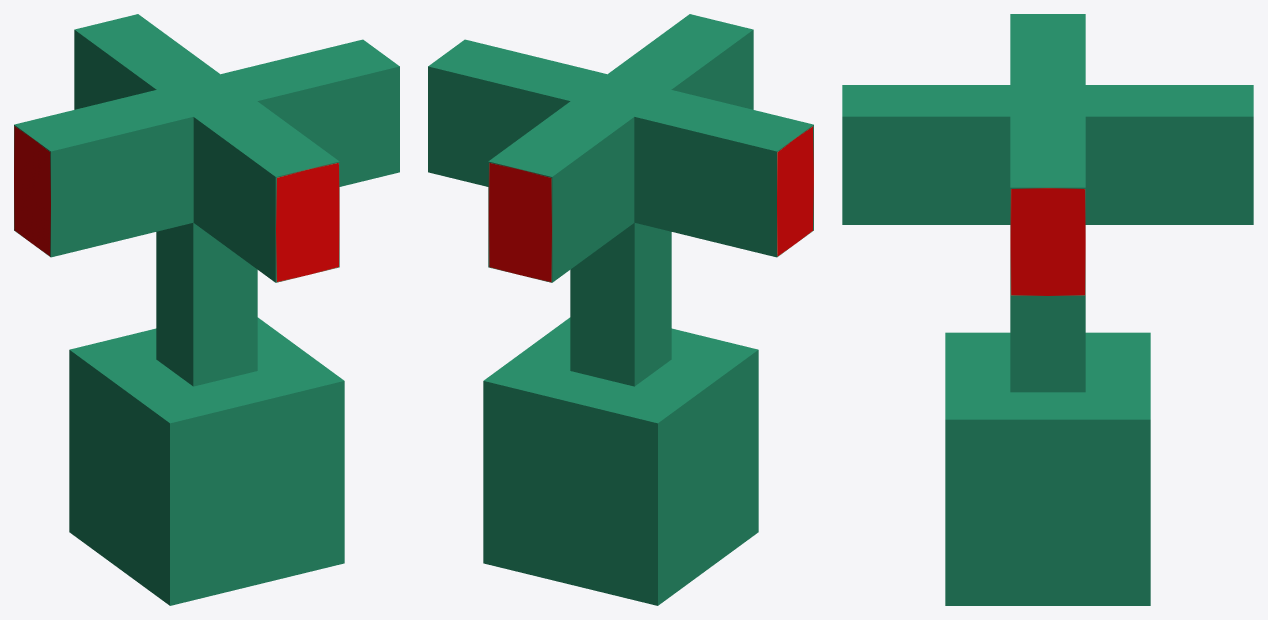
The model's file is Trap.obj.
The picture shows the model from 3 angles, left to right: view 1: azimuth 30°, elevation 25°; view 2: azimuth 150°, elevation 25°; view 3: azimuth 270°, elevation 25°; orthographic projection. The views are drawn at different scales.
Parts seen in each view (by area): view 1: Cube; view 2: Cube; view 3: Cube.
Part boxes in pixels (x1,y1,x2,y2): Cube: (14,14,399,605); Cube: (428,14,813,605); Cube: (842,14,1253,605).
Bounding box in the file's own units: 4 × 4.95 × 4.
Materials: 1 (1 with a texture image).
